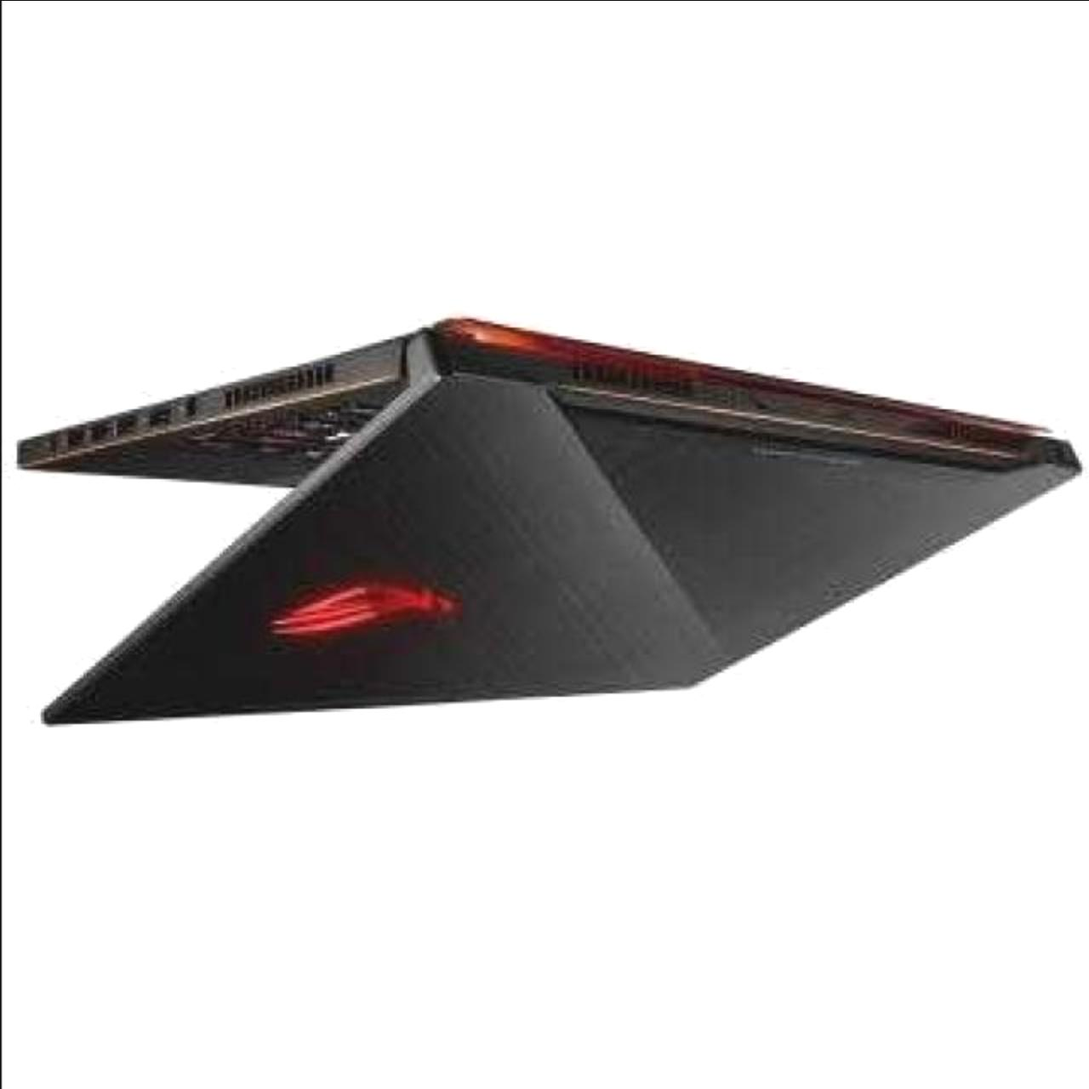laptop: (0, 248, 1035, 733)
